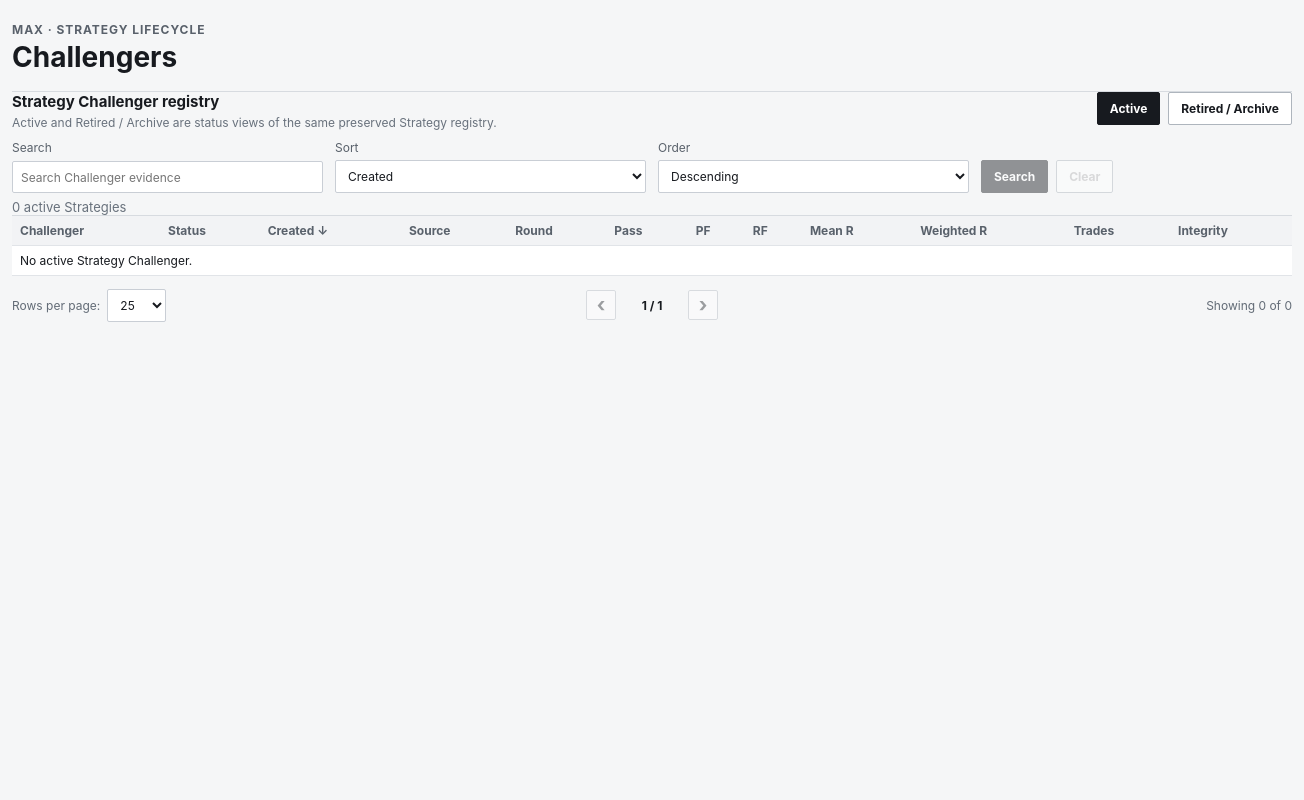
Test: M06 Strategy Challenger operations UI › shows retained archive history without exposing active operations
Expected: the text "No active Strategy Challenger." is shown, [12,246,1292,276]
Expected: the text "Showing 0 of 0" is shown, [1206,298,1292,313]
Click the button "Retired / Archive". click: [1230, 109]
box: [1168,92,1292,125]
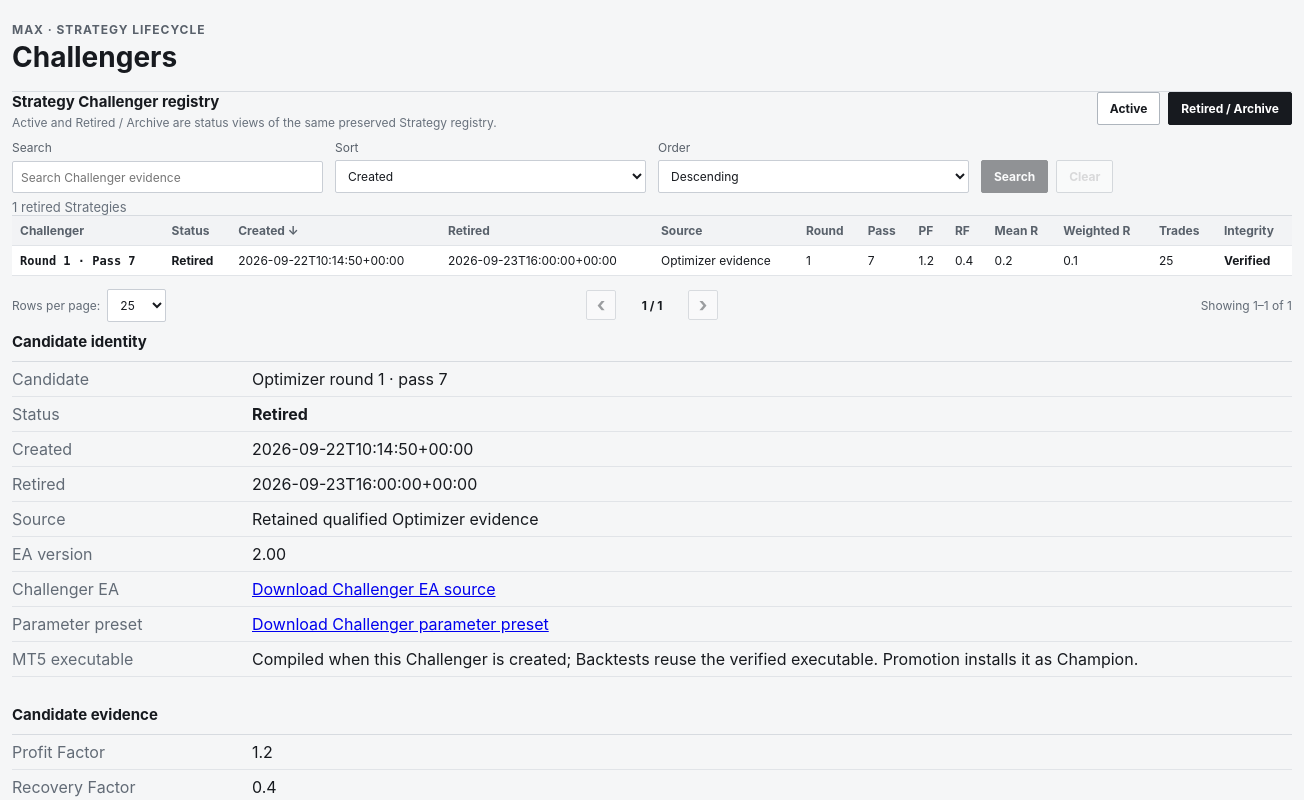
Expected: the button "Round 1 · Pass 7" is shown, [20,254,136,268]
